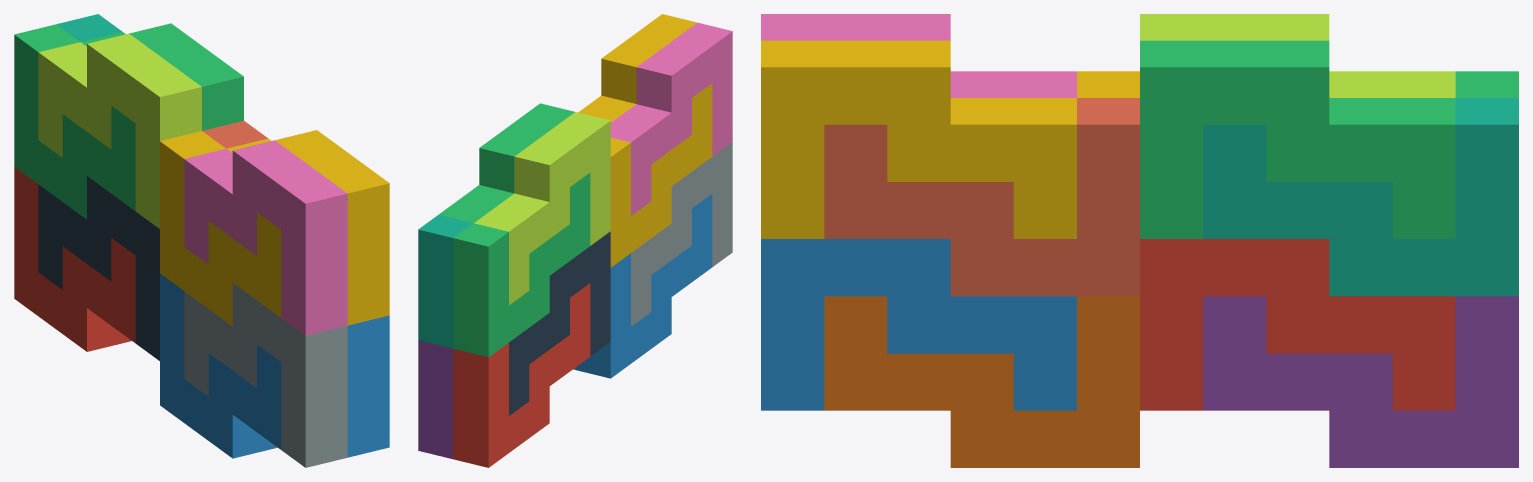
Rendered from tiling.obj.
3 views of the same model, side by side, from view 1: azimuth 30°, elevation 25°; view 2: azimuth 150°, elevation 25°; view 3: azimuth 270°, elevation 25° (orthographic). The views are drawn at different scales.
Visible parts, largest first — view 1: copy_2_domain_4, copy_2_domain_3, copy_2_domain_2, copy_1_domain_3, copy_1_domain_4, copy_1_domain_1, copy_1_domain_2, copy_2_domain_1, copy_2_domain_8, copy_2_domain_6, copy_2_domain_7, copy_1_domain_7 (+1 smaller); view 2: copy_2_domain_3, copy_2_domain_4, copy_1_domain_3, copy_1_domain_1, copy_1_domain_2, copy_1_domain_4, copy_2_domain_1, copy_2_domain_2, copy_2_domain_7, copy_1_domain_7, copy_2_domain_8, copy_1_domain_5; view 3: copy_2_domain_8, copy_2_domain_7, copy_1_domain_7, copy_1_domain_8, copy_1_domain_5, copy_2_domain_6, copy_1_domain_6, copy_2_domain_5, copy_2_domain_3, copy_2_domain_4, copy_1_domain_3, copy_1_domain_4.
Boxes of the visible parts, bbox=[...] form: copy_2_domain_4: bbox=[184, 140, 347, 335]; copy_2_domain_3: bbox=[38, 33, 201, 228]; copy_2_domain_2: bbox=[184, 283, 347, 467]; copy_1_domain_3: bbox=[14, 24, 135, 219]; copy_1_domain_4: bbox=[160, 131, 281, 325]; copy_1_domain_1: bbox=[14, 167, 135, 351]; copy_1_domain_2: bbox=[160, 273, 281, 458]; copy_2_domain_1: bbox=[38, 176, 159, 360]; copy_2_domain_8: bbox=[226, 130, 389, 325]; copy_2_domain_6: bbox=[347, 315, 389, 457]; copy_2_domain_7: bbox=[81, 23, 243, 130]; copy_1_domain_7: bbox=[56, 14, 122, 41]; copy_2_domain_3: bbox=[474, 112, 610, 305]; copy_2_domain_4: bbox=[610, 22, 732, 215]; copy_1_domain_3: bbox=[453, 172, 590, 357]; copy_1_domain_1: bbox=[453, 283, 590, 467]; copy_1_domain_2: bbox=[575, 194, 712, 378]; copy_1_domain_4: bbox=[610, 83, 712, 267]; copy_2_domain_1: bbox=[509, 231, 610, 415]; copy_2_domain_2: bbox=[631, 142, 732, 326]; copy_2_domain_7: bbox=[439, 103, 574, 223]; copy_1_domain_7: bbox=[418, 214, 473, 348]; copy_2_domain_8: bbox=[578, 14, 696, 122]; copy_1_domain_5: bbox=[418, 340, 453, 459]; copy_2_domain_8: bbox=[761, 40, 1076, 238]; copy_2_domain_7: bbox=[1140, 40, 1455, 238]; copy_1_domain_7: bbox=[1203, 98, 1518, 296]; copy_1_domain_8: bbox=[824, 98, 1139, 296]; copy_1_domain_5: bbox=[1203, 296, 1518, 467]; copy_2_domain_6: bbox=[761, 239, 1076, 410]; copy_1_domain_6: bbox=[824, 296, 1139, 467]; copy_2_domain_5: bbox=[1140, 239, 1455, 410]; copy_2_domain_3: bbox=[1140, 14, 1455, 97]; copy_2_domain_4: bbox=[761, 14, 1076, 97]; copy_1_domain_3: bbox=[1455, 71, 1518, 97]; copy_1_domain_4: bbox=[1077, 71, 1139, 97].
Bounding box in the file's own units: 2 × 7 × 12.
